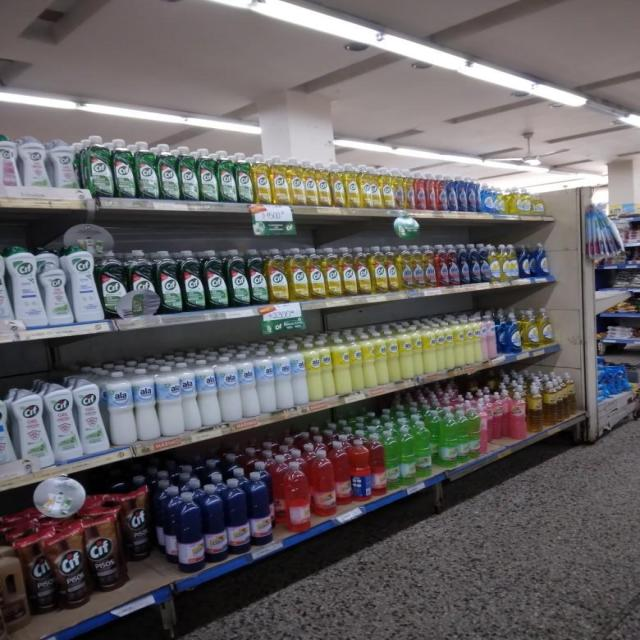ala_conc_amarillo: (398, 245, 412, 290), (411, 244, 423, 290), (424, 244, 435, 289), (404, 169, 414, 210), (394, 168, 404, 209)
ala_conc_azul: (460, 244, 470, 285), (470, 243, 480, 284), (480, 243, 490, 283), (448, 174, 458, 212), (458, 175, 468, 212), (468, 178, 477, 212)
ala_conc_rojo: (436, 244, 448, 287), (448, 244, 459, 286), (415, 172, 426, 210), (437, 173, 448, 211), (426, 172, 436, 210)
ala_crem_amarillo: (333, 336, 350, 396), (307, 342, 322, 401), (321, 339, 334, 398), (350, 335, 363, 391), (387, 328, 400, 383), (399, 326, 412, 380), (363, 332, 375, 388), (423, 324, 436, 375), (376, 330, 387, 386), (412, 326, 422, 377)
ala_crem_blanco: (107, 369, 134, 446), (158, 364, 183, 437), (134, 366, 158, 442), (198, 356, 219, 428), (219, 354, 240, 423), (240, 350, 258, 419), (182, 360, 199, 432), (258, 348, 275, 414), (276, 346, 292, 410), (292, 344, 307, 406)
cif_conc_bot_amarilla: (55, 525, 87, 607), (267, 248, 288, 304), (288, 247, 307, 301), (253, 154, 270, 204), (308, 247, 324, 300), (271, 156, 288, 205), (360, 165, 378, 208), (288, 157, 304, 205), (325, 247, 340, 298), (344, 163, 360, 208), (371, 246, 386, 293), (341, 246, 355, 296), (356, 246, 370, 295), (303, 160, 316, 207), (331, 162, 344, 207), (317, 162, 330, 206), (386, 246, 398, 292), (381, 167, 393, 209)
cif_conc_botella_verde: (81, 136, 112, 198), (128, 249, 156, 317), (100, 250, 126, 320), (157, 250, 180, 314), (204, 249, 227, 309), (182, 250, 204, 312), (135, 141, 157, 199), (113, 139, 134, 198), (227, 249, 248, 307), (158, 143, 178, 200), (178, 146, 198, 201), (248, 248, 266, 306), (198, 148, 217, 202), (218, 150, 235, 203), (236, 152, 252, 204)
magistral_con_amarillo: (522, 310, 538, 350), (539, 308, 555, 347), (501, 243, 517, 281), (517, 188, 532, 215), (490, 244, 500, 282), (532, 190, 545, 215)
magistral_con_azul: (506, 311, 520, 354)
